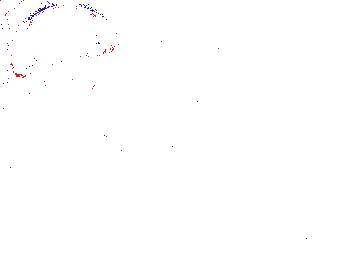moon jellyfish: (10, 5, 119, 80), (84, 48, 175, 105), (101, 3, 200, 55)
